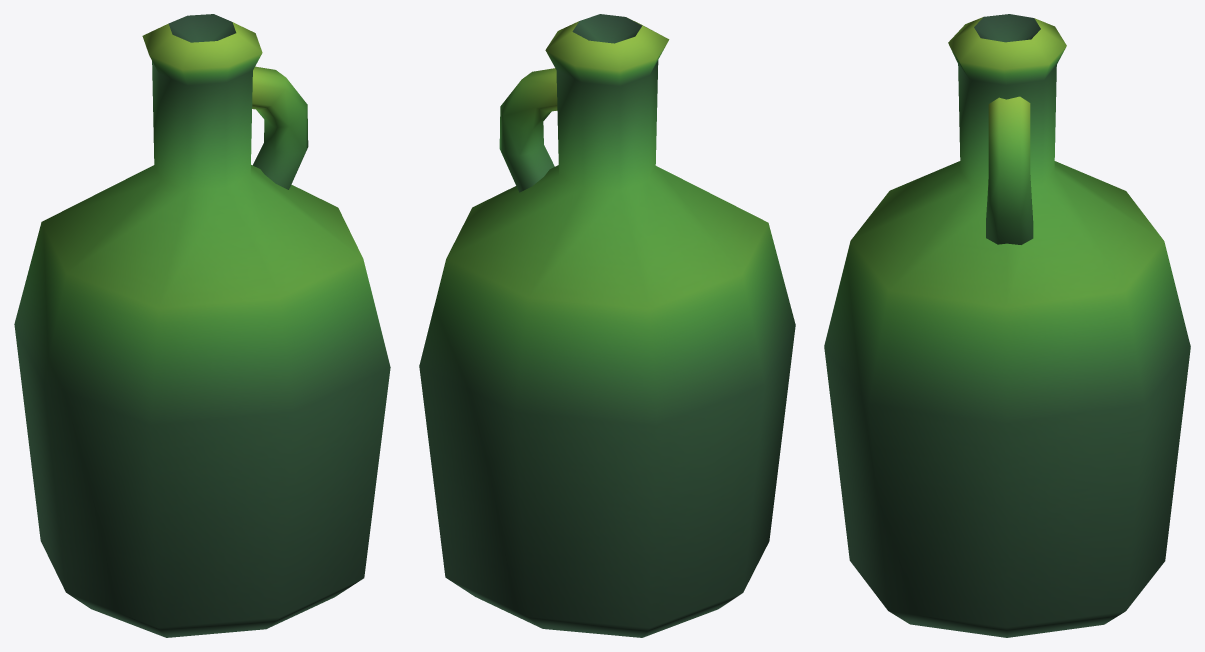
The model's file is bottle_rum_open.fbx.
3 views of the same model, side by side, from view 1: azimuth 30°, elevation 25°; view 2: azimuth 150°, elevation 25°; view 3: azimuth 270°, elevation 25° (orthographic).
Parts seen in each view (by area): view 1: bottle_rum_open; view 2: bottle_rum_open; view 3: bottle_rum_open.
Boxes of the visible parts, bbox=[...] form: bottle_rum_open: bbox=[14, 14, 390, 637]; bottle_rum_open: bbox=[419, 14, 795, 637]; bottle_rum_open: bbox=[824, 14, 1190, 637].
Bounding box in the file's own units: 34.42 × 57.52 × 34.42.
